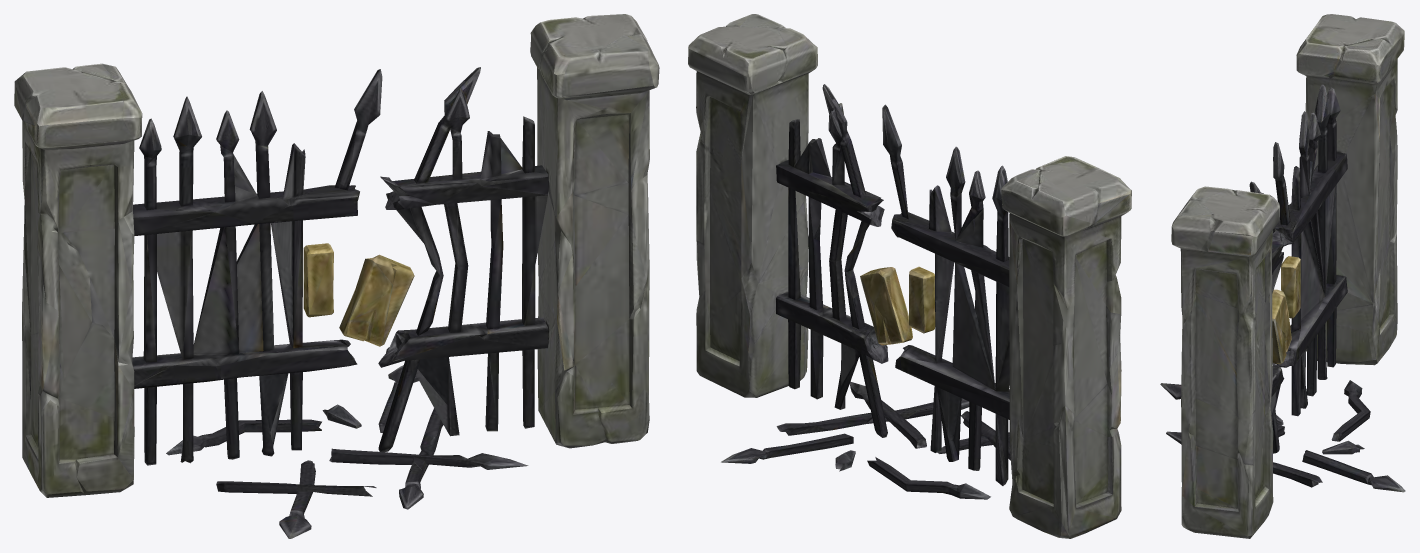
Rendered from gate_destroyed_3d.glb.
3 views of the same model, side by side, from view 1: azimuth 30°, elevation 25°; view 2: azimuth 150°, elevation 25°; view 3: azimuth 270°, elevation 25° (orthographic). The views are drawn at different scales.
Parts seen in each view (by area): view 1: Mesh_0; view 2: Mesh_0; view 3: Mesh_0.
Boxes of the visible parts, x1,y1,x2,y2 form: Mesh_0: [14, 14, 659, 538]; Mesh_0: [688, 14, 1131, 538]; Mesh_0: [1160, 14, 1405, 538].
Size of the model in its own units: 1.25 by 0.8512 by 0.5933.
1 material, 1 textured.
